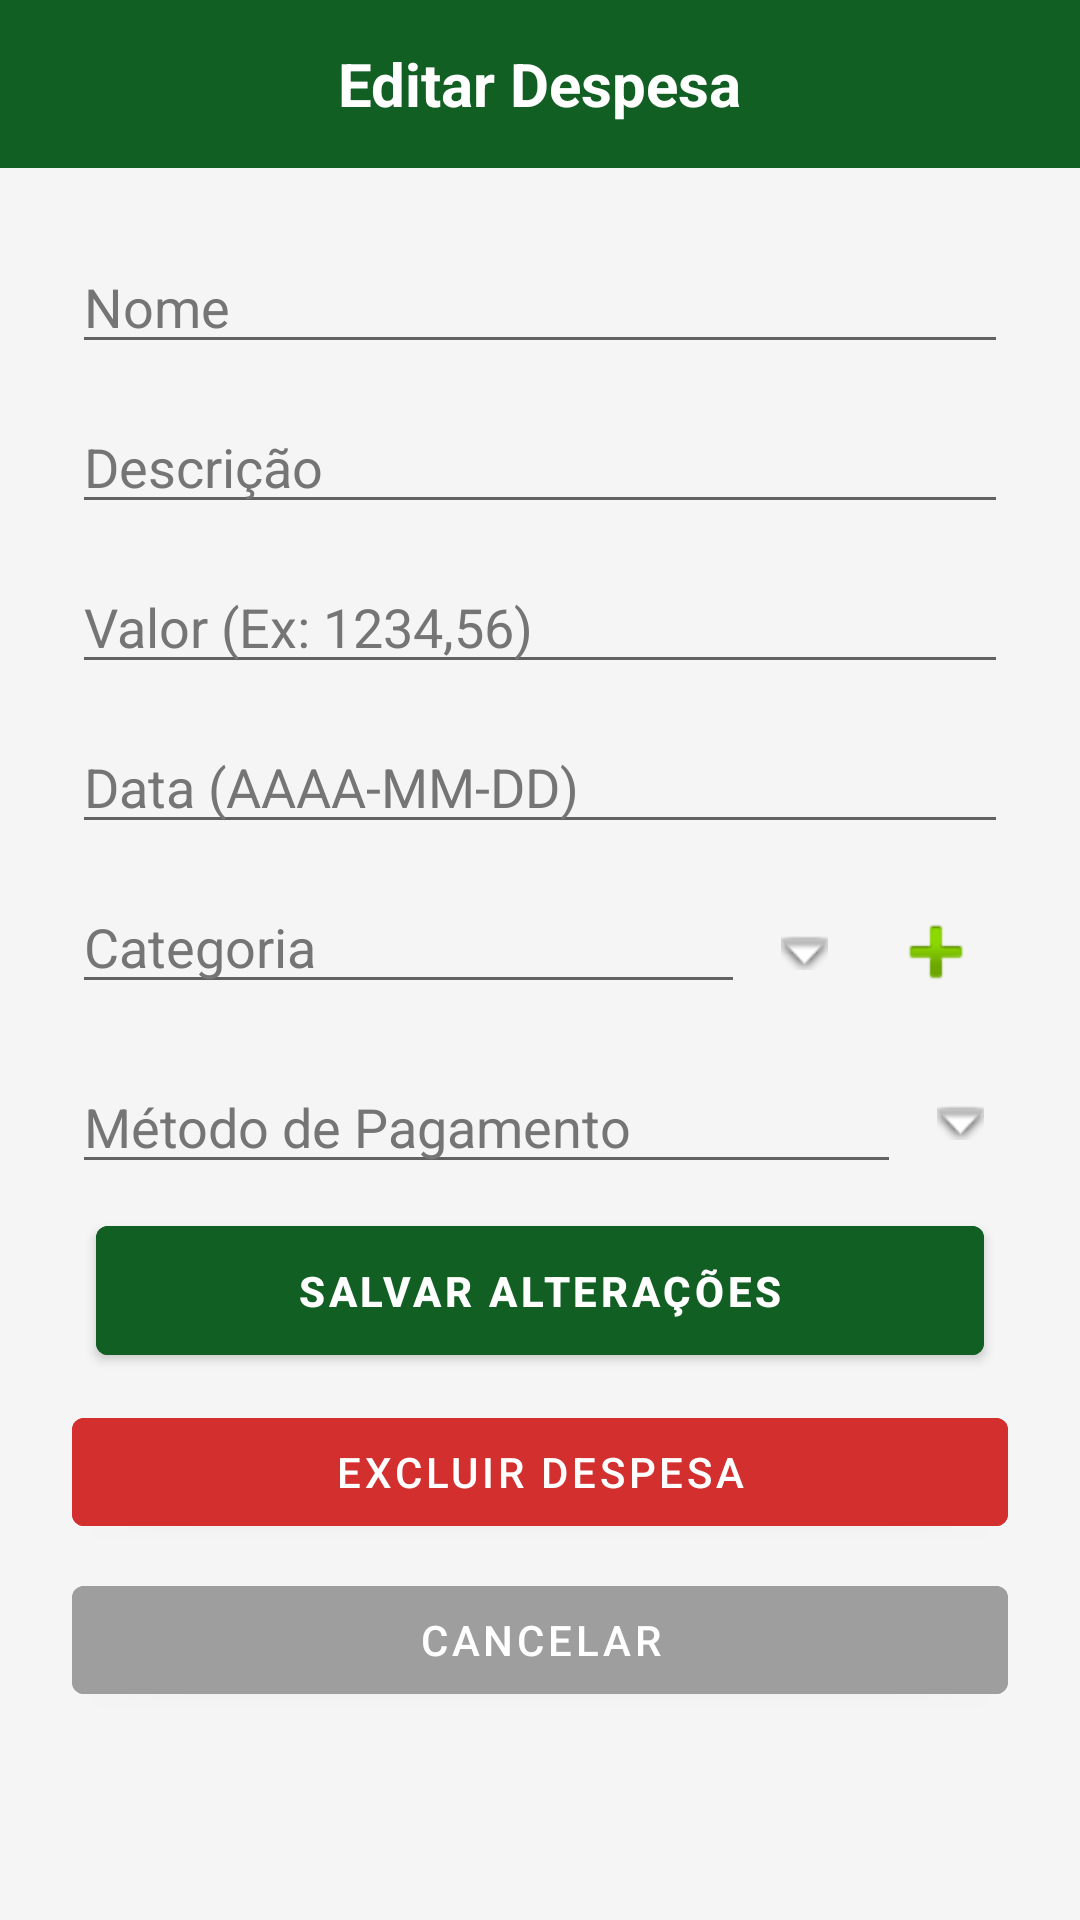

Screen size 1080px×1920px. Icon name, then its center in pixels as (x,y):
Exibir métodos de pagamento: (960,1123)
